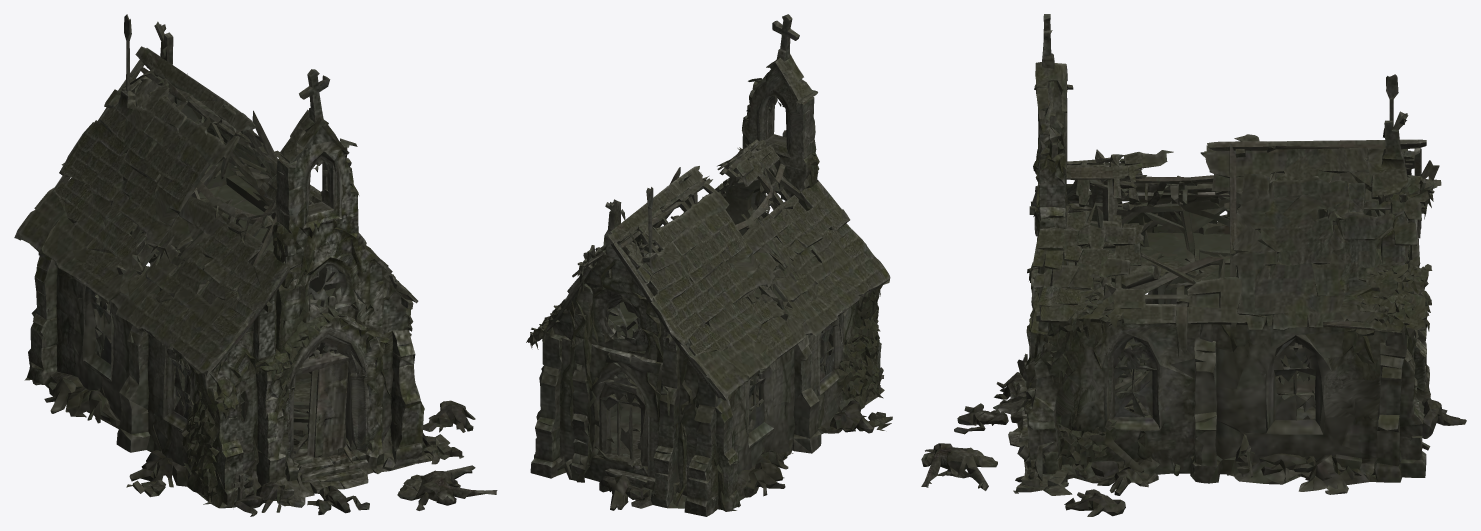
File: church.glb
3 views of the same model, side by side, from view 1: azimuth 30°, elevation 25°; view 2: azimuth 150°, elevation 25°; view 3: azimuth 270°, elevation 25° (orthographic). The views are drawn at different scales.
Parts seen in each view (by area): view 1: output_unwrapped; view 2: output_unwrapped; view 3: output_unwrapped.
Boxes of the visible parts, x1,y1,x2,y2 form: output_unwrapped: (14, 14, 497, 516); output_unwrapped: (526, 14, 892, 516); output_unwrapped: (921, 14, 1466, 516).
Size of the model in its own units: 1.35 by 1.58 by 1.89.
1 material, 1 textured.
